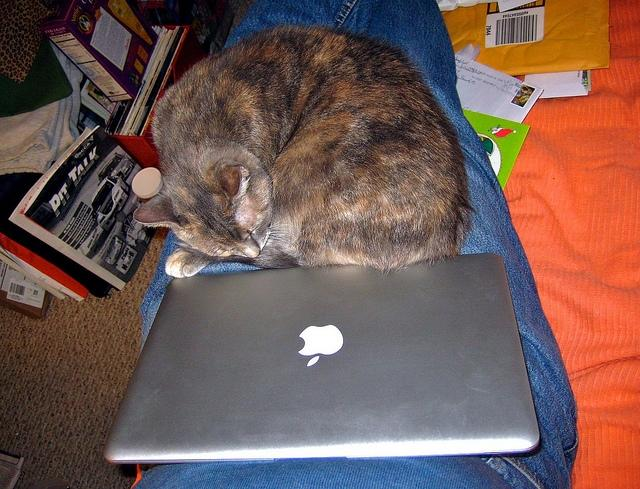apple: (298, 324, 344, 366)
